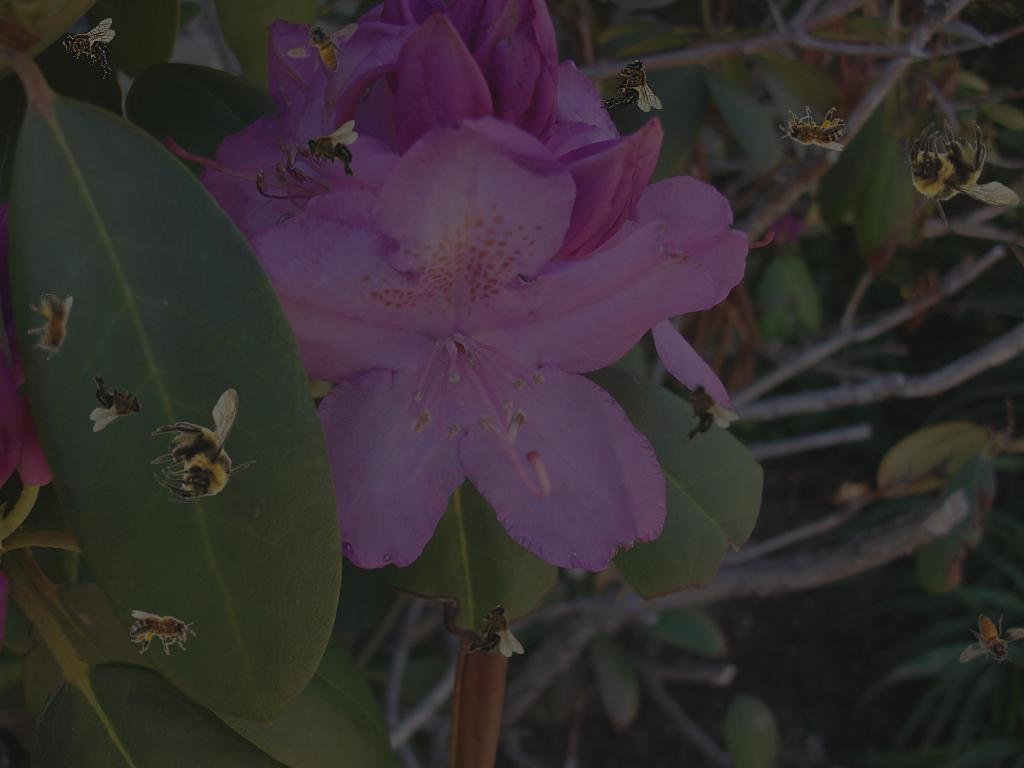Bee: (150, 388, 257, 503), (905, 119, 1020, 226), (663, 373, 742, 449), (287, 22, 358, 72), (462, 604, 524, 657), (305, 120, 358, 182), (600, 59, 662, 112), (62, 18, 115, 80), (90, 370, 143, 432), (959, 614, 1024, 664), (28, 294, 73, 360), (130, 610, 196, 655), (779, 106, 845, 151)
